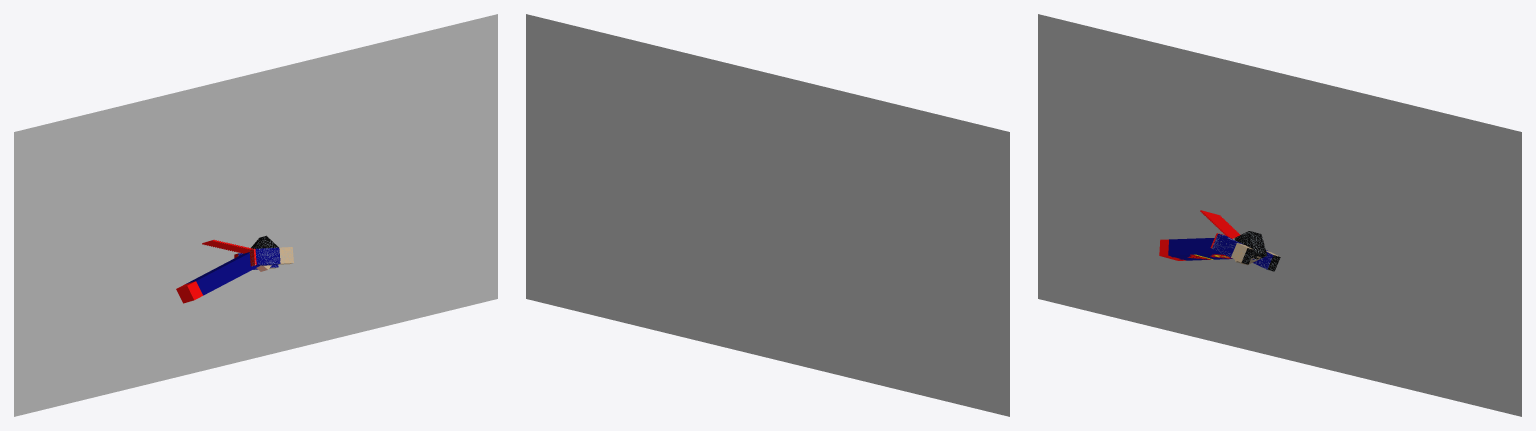
The picture shows the model from 3 angles, left to right: view 1: azimuth 30°, elevation 25°; view 2: azimuth 150°, elevation 25°; view 3: azimuth 330°, elevation 25°; orthographic projection.
Parts seen in each view (by area): view 1: image_0, group_8, group_1, group_5; view 2: image_0; view 3: image_0, group_4, group_1, group_8.
Part boxes in pixels (x1=…): image_0: x1=14, y1=14, x2=497, y2=416; group_8: x1=211, y1=252, x2=259, y2=282; group_1: x1=191, y1=268, x2=227, y2=295; group_5: x1=253, y1=247, x2=280, y2=266; image_0: x1=526, y1=14, x2=1009, y2=416; image_0: x1=1038, y1=14, x2=1521, y2=416; group_4: x1=1234, y1=231, x2=1267, y2=258; group_1: x1=1168, y1=238, x2=1193, y2=257; group_8: x1=1193, y1=238, x2=1232, y2=259.
Size of the model in its own units: 423 by 57.92 by 238.
